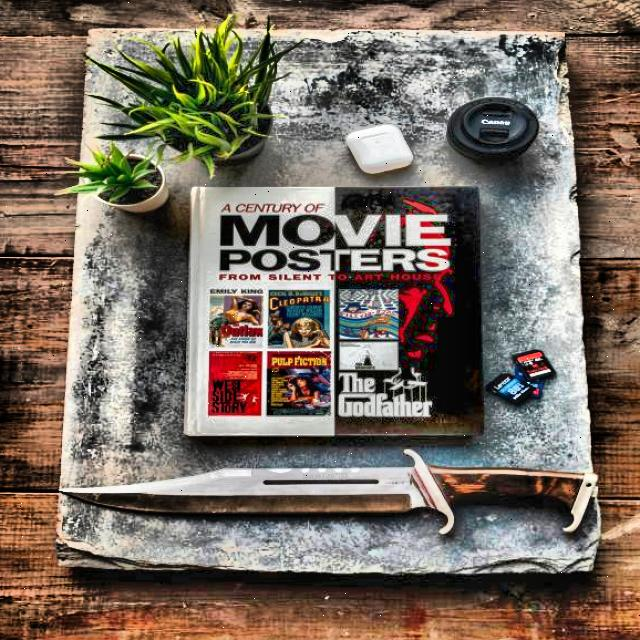knife: (62, 443, 608, 541)
